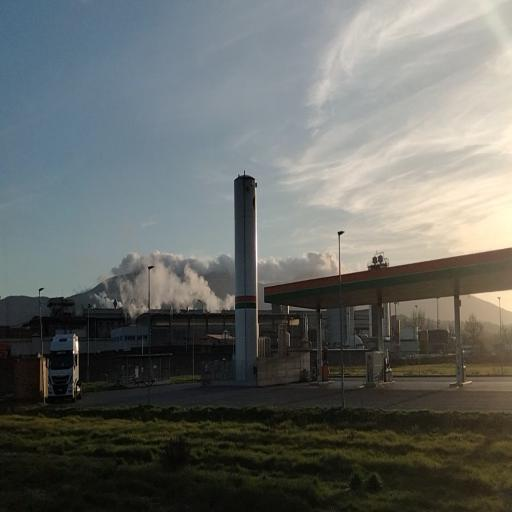leakage: (94, 257, 237, 324)
